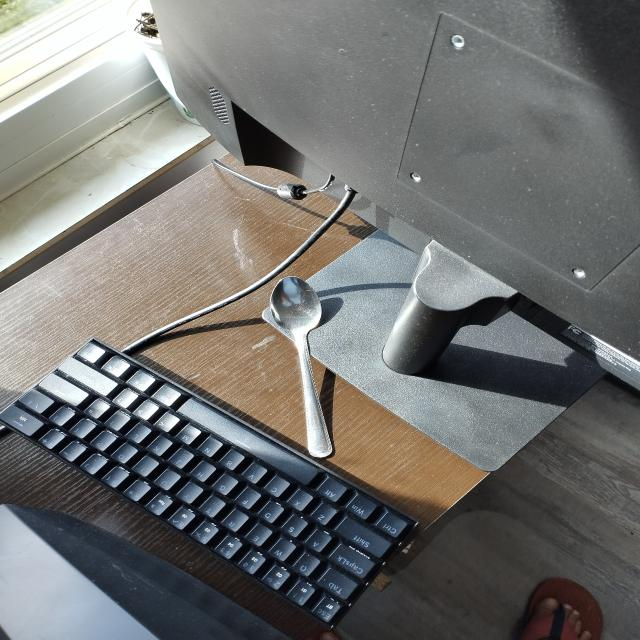Spoon: (247, 270, 378, 467)
